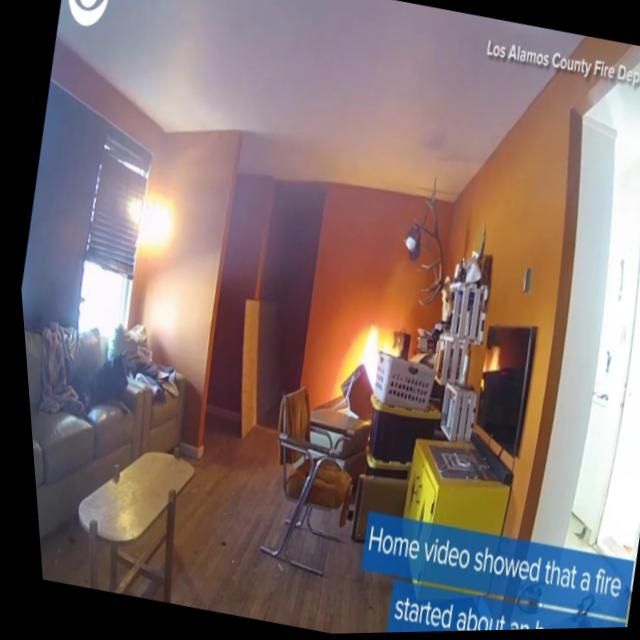fire: (334, 317, 390, 401)
